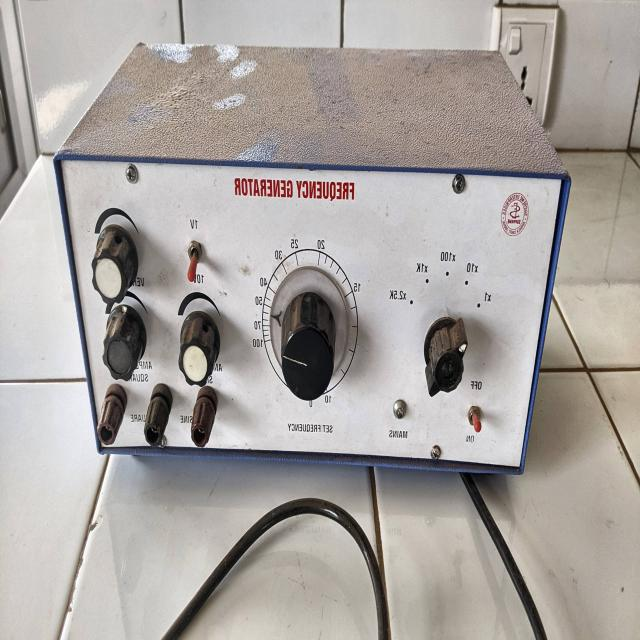Analog Frequency Generator: (33, 130, 581, 479)
